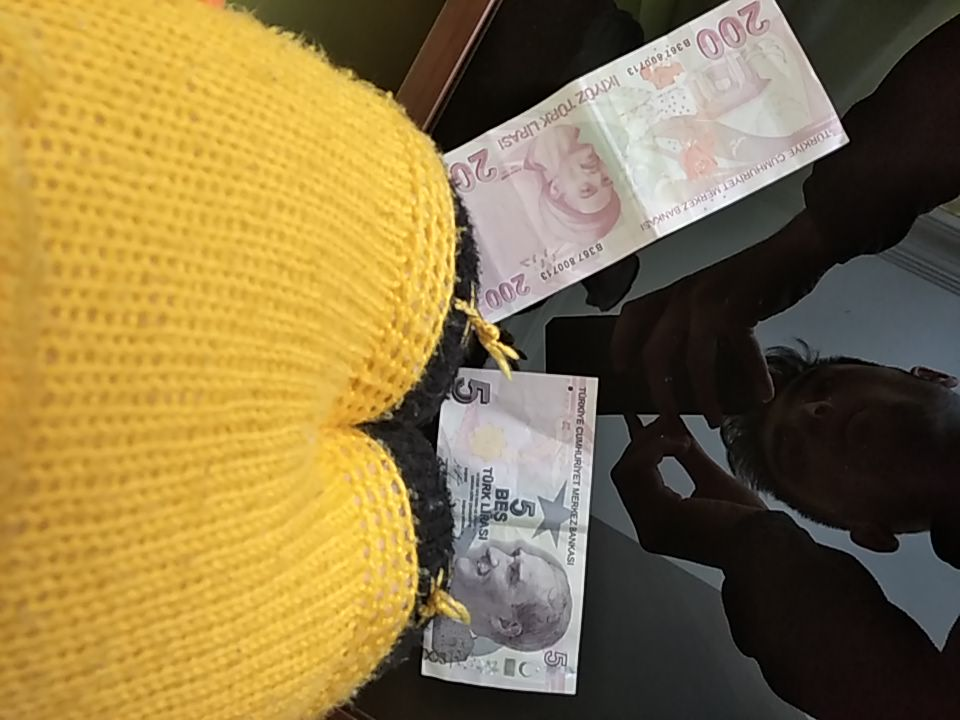200TL: (440, 1, 850, 328)
5TL: (417, 364, 599, 698)
